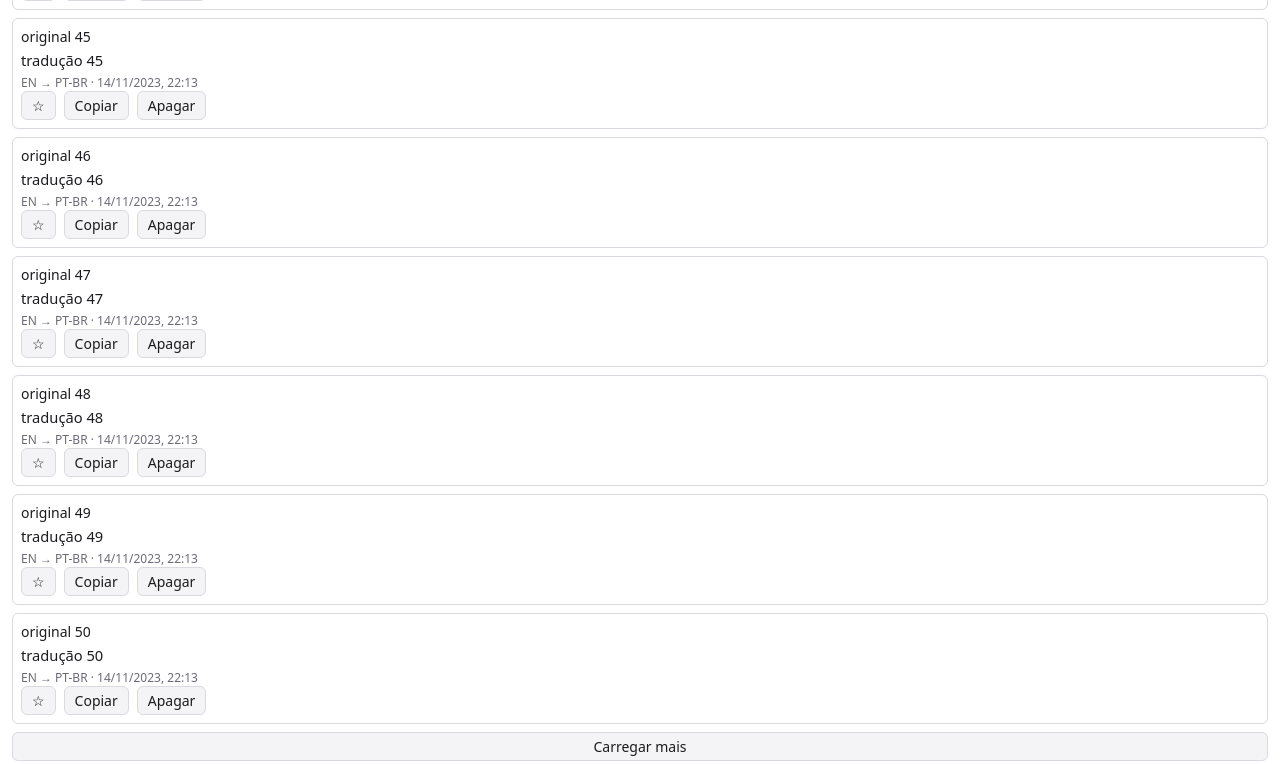
HistoryApp — lista › loads the next page and hides the button when the last page is short
(page scrolled)
Click the button "Carregar mais" at (640, 746), box [12, 732, 1268, 761]
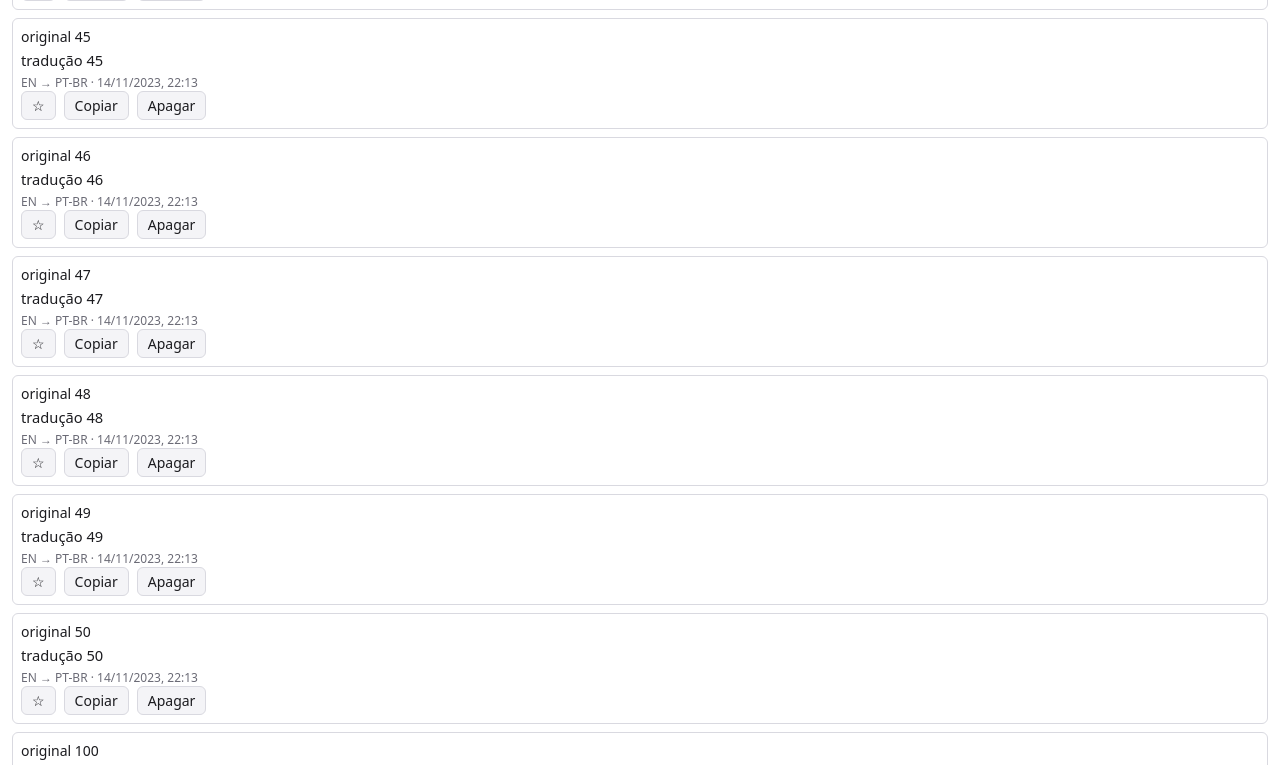
Expected: the text "original 100" is shown, [21, 741, 99, 760]
Expected: the button "Carregar mais" is gone
